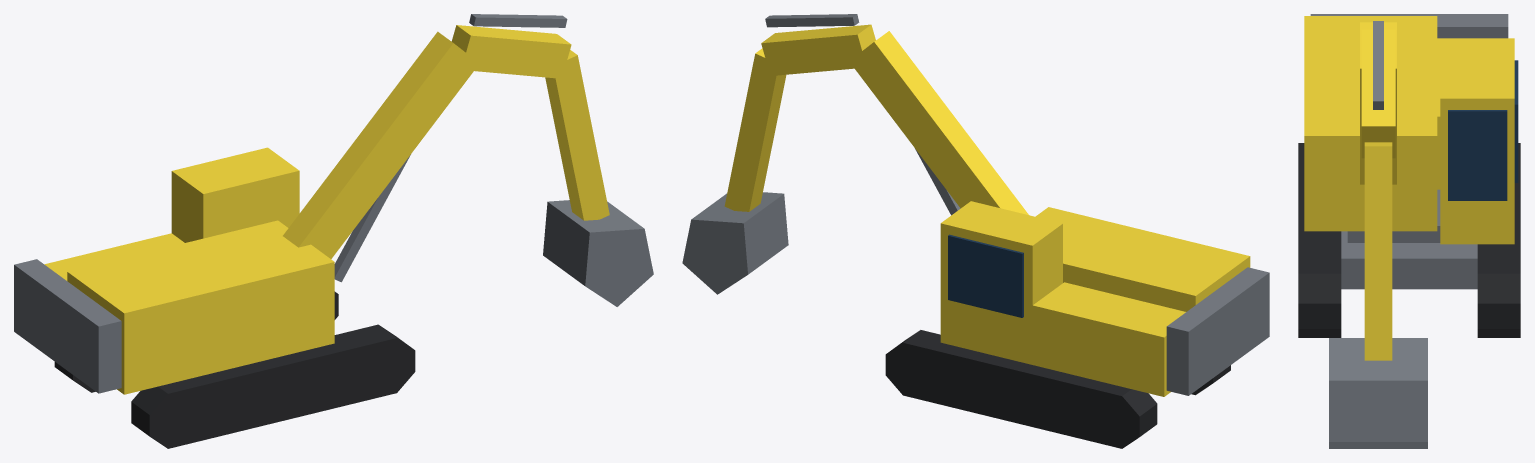
The model's file is site_excavator.fbx.
The picture shows the model from 3 angles, left to right: view 1: azimuth 30°, elevation 25°; view 2: azimuth 150°, elevation 25°; view 3: azimuth 270°, elevation 25°; orthographic projection. The views are drawn at different scales.
Parts seen in each view (by area): view 1: a1089/0/site_excavator; view 2: a1089/0/site_excavator; view 3: a1089/0/site_excavator.
Boxes of the visible parts, x1,y1,x2,y2 form: a1089/0/site_excavator: (14, 14, 653, 448); a1089/0/site_excavator: (682, 14, 1269, 448); a1089/0/site_excavator: (1298, 14, 1520, 448).
Size of the model in its own units: 10.09 by 5.57 by 2.95.
